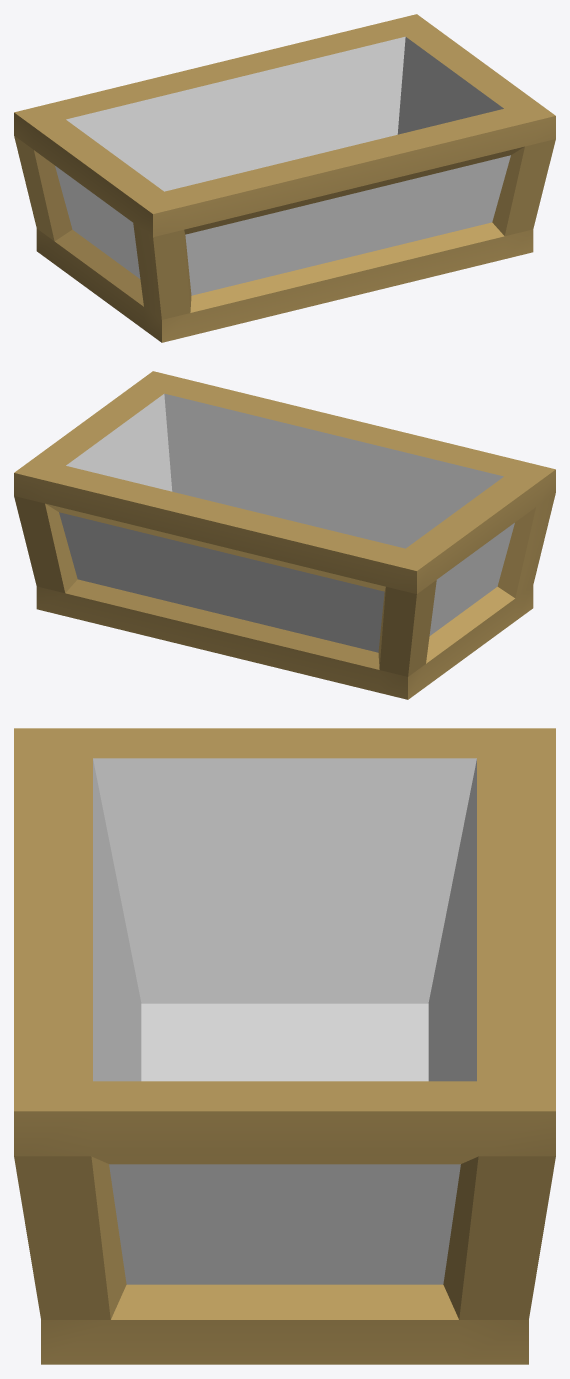
File: chest_rare.glb
The picture shows the model from 3 angles, top to bottom: view 1: azimuth 30°, elevation 25°; view 2: azimuth 150°, elevation 25°; view 3: azimuth 270°, elevation 25°; orthographic projection. The views are drawn at different scales.
Parts seen in each view (by area): view 1: chest_rare; view 2: chest_rare; view 3: chest_rare.
Boxes of the visible parts, x1=… form: chest_rare: x1=14, y1=14, x2=555, y2=342; chest_rare: x1=14, y1=371, x2=555, y2=699; chest_rare: x1=14, y1=728, x2=555, y2=1364.
Size of the model in its own units: 0.322 by 0.1051 by 0.1925.
